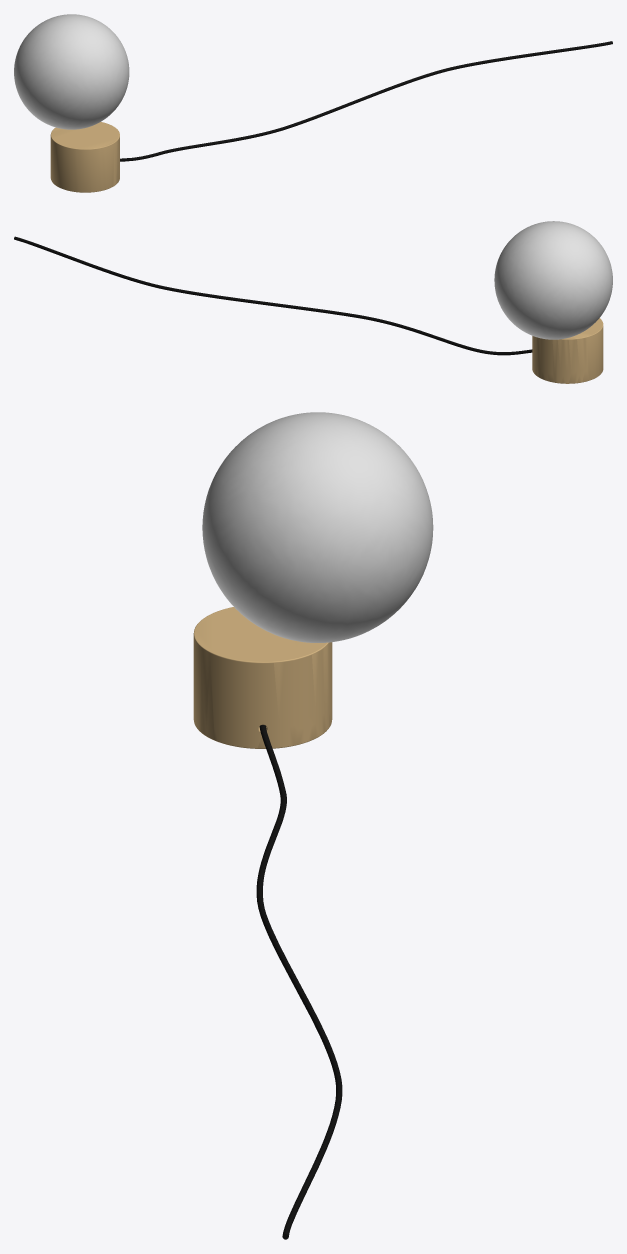
File: designconnected-tip-of-the-tongue-table-lamp-9197.optimized.glb
The picture shows the model from 3 angles, top to bottom: view 1: azimuth 30°, elevation 25°; view 2: azimuth 150°, elevation 25°; view 3: azimuth 270°, elevation 25°; orthographic projection. The views are drawn at different scales.
Visible parts, largest first — view 1: Michael_Anastassiades_Tip_of_the_tongue_mat1; view 2: Michael_Anastassiades_Tip_of_the_tongue_mat1; view 3: Michael_Anastassiades_Tip_of_the_tongue_mat1.
Part boxes in pixels (x1,y1,x2,y2): Michael_Anastassiades_Tip_of_the_tongue_mat1: (14,14,612,192); Michael_Anastassiades_Tip_of_the_tongue_mat1: (14,221,612,383); Michael_Anastassiades_Tip_of_the_tongue_mat1: (193,412,433,1239).
Size of the model in its own units: 1.17 by 0.2838 by 0.2074.
